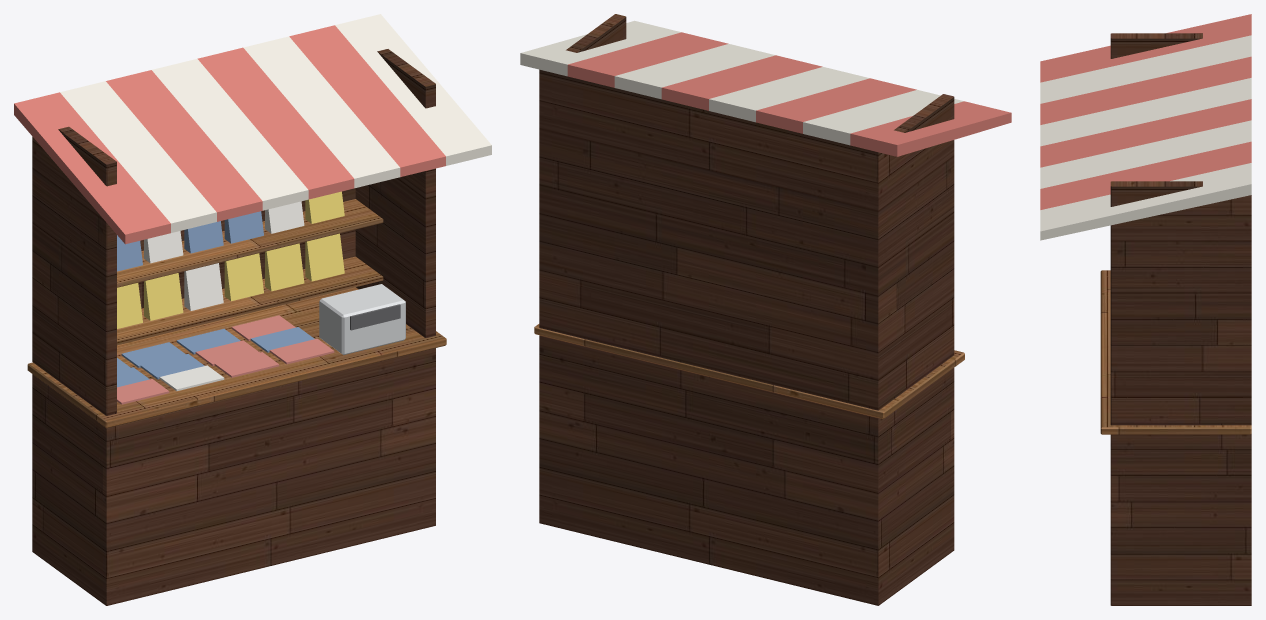
File: kiosk.glb
3 views of the same model, side by side, from view 1: azimuth 30°, elevation 25°; view 2: azimuth 150°, elevation 25°; view 3: azimuth 270°, elevation 25° (orthographic). The views are drawn at different scales.
Visible parts, largest first — view 1: kiosk_dkwood, kiosk_sign_r, kiosk_cream, kiosk_wood, kiosk_sign_y, kiosk_news_b, kiosk_paper, kiosk_news_r, kiosk_metal, kiosk_dark; view 2: kiosk_dkwood, kiosk_sign_r, kiosk_cream, kiosk_wood; view 3: kiosk_dkwood, kiosk_cream, kiosk_sign_r, kiosk_wood.
Part boxes in pixels (x1,y1,x2,y2): kiosk_dkwood: (32, 49, 435, 605); kiosk_sign_r: (14, 25, 445, 244); kiosk_cream: (60, 14, 491, 232); kiosk_wood: (27, 199, 446, 428); kiosk_sign_y: (117, 191, 344, 328); kiosk_news_b: (117, 211, 314, 387); kiosk_paper: (144, 201, 304, 391); kiosk_news_r: (117, 315, 334, 404); kiosk_metal: (319, 284, 405, 355); kiosk_dark: (350, 304, 400, 330); kiosk_dkwood: (539, 14, 954, 605); kiosk_sign_r: (567, 32, 1011, 156); kiosk_cream: (520, 20, 963, 145); kiosk_wood: (534, 324, 964, 418); kiosk_dkwood: (1110, 33, 1251, 605); kiosk_cream: (1040, 35, 1251, 240); kiosk_sign_r: (1040, 14, 1251, 209); kiosk_wood: (1100, 270, 1251, 434).
Bounding box in the file's own units: 2 × 2.36 × 1.05.
Materials: 10 (2 with a texture image).
